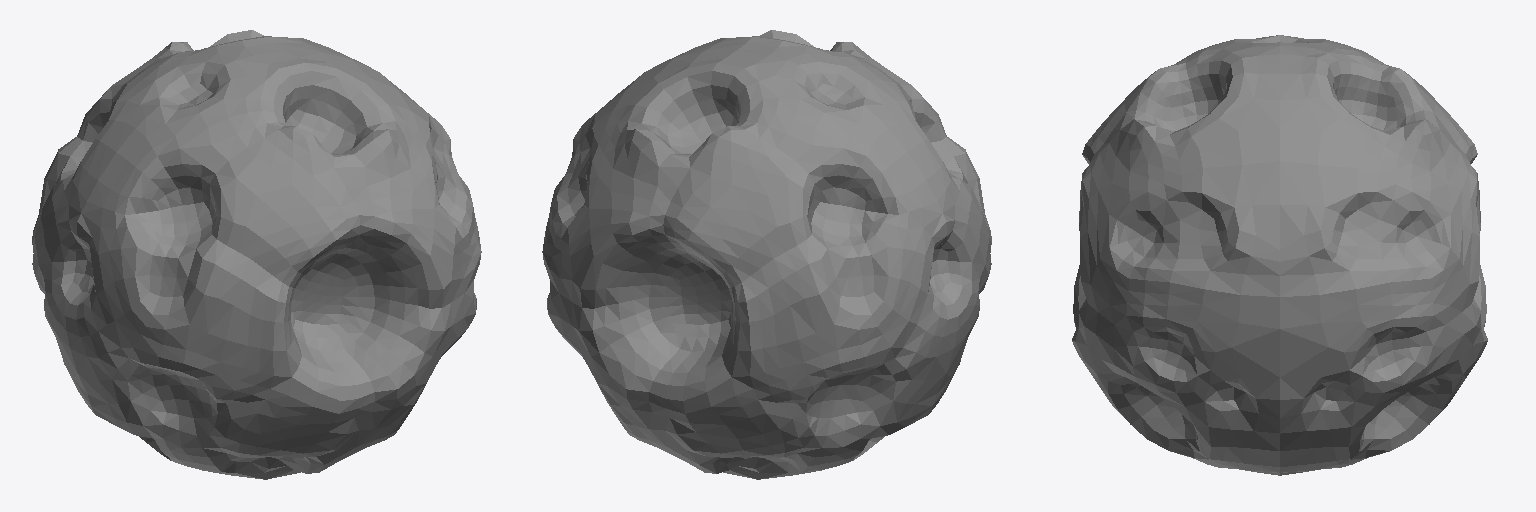
File: Moon_GEO_01.obj
3 renders of one model, left to right at view 1: azimuth 30°, elevation 25°; view 2: azimuth 150°, elevation 25°; view 3: azimuth 270°, elevation 25°, orthographic.
Visible parts, largest first — view 1: Moon_GEO; view 2: Moon_GEO; view 3: Moon_GEO.
Part boxes in pixels (x1,y1,x2,y2): Moon_GEO: (32, 30, 481, 479); Moon_GEO: (542, 30, 991, 479); Moon_GEO: (1072, 35, 1487, 475).
Size of the model in its own units: 186 by 187 by 176.